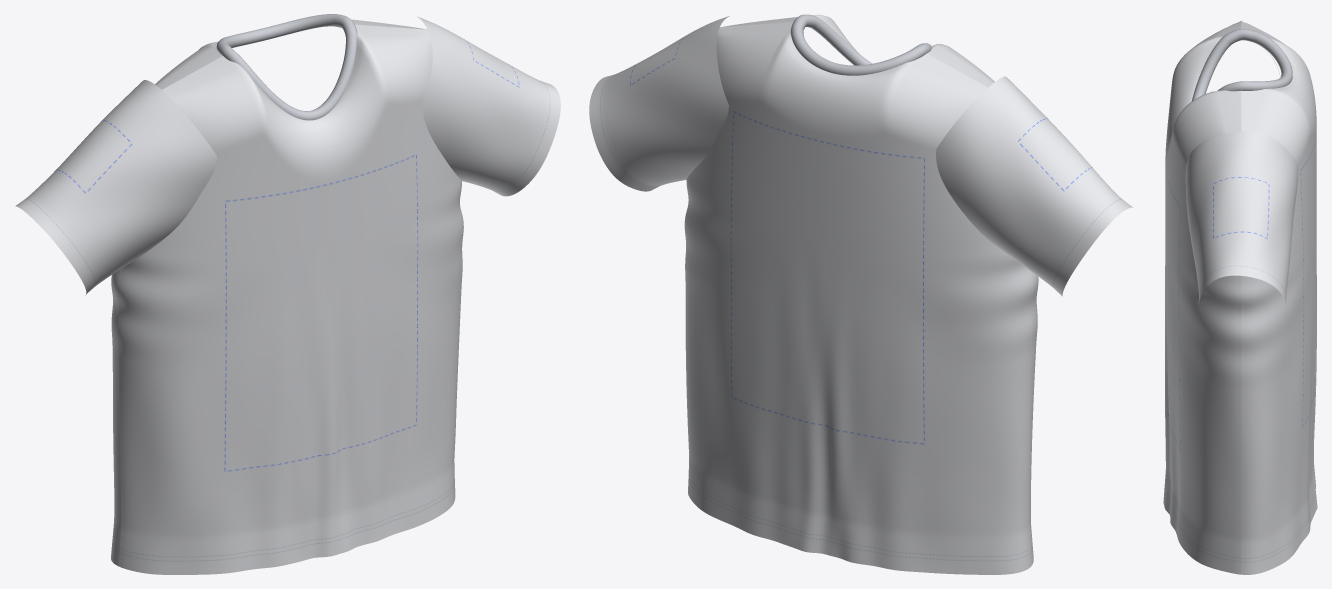
Rendered from TShirtLowPoly1.glb.
3 renders of one model, left to right at view 1: azimuth 30°, elevation 25°; view 2: azimuth 150°, elevation 25°; view 3: azimuth 270°, elevation 25°, orthographic. The views are drawn at different scales.
Visible parts, largest first — view 1: torso, sleeveRight, sleeveLeft, trim_collar; view 2: torso, sleeveRight, sleeveLeft, trim_collar; view 3: torso, sleeveLeft, trim_collar.
Boxes of the visible parts, box(x1,y1,x2,y2) form: torso: box(111, 19, 463, 574); sleeveRight: box(15, 80, 216, 295); sleeveLeft: box(417, 16, 560, 196); trim_collar: box(216, 14, 357, 120); torso: box(684, 14, 1038, 574); sleeveRight: box(936, 76, 1132, 296); sleeveLeft: box(589, 16, 729, 191); trim_collar: box(790, 14, 932, 75); torso: box(1163, 21, 1317, 574); sleeveLeft: box(1185, 131, 1297, 306); trim_collar: box(1191, 28, 1292, 101).
Bounding box in the file's own units: 0.8132 × 0.729 × 0.2283.
Materials: 4 (3 with a texture image).
